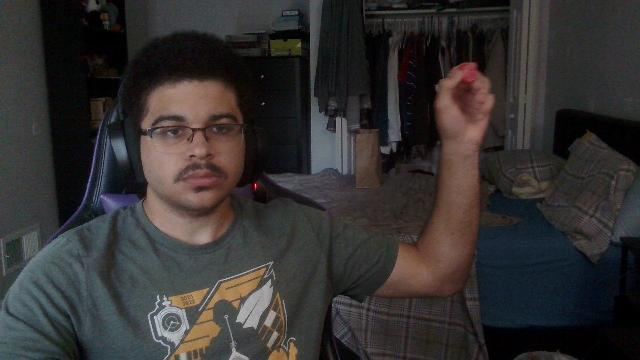cap: (462, 64, 476, 84)
